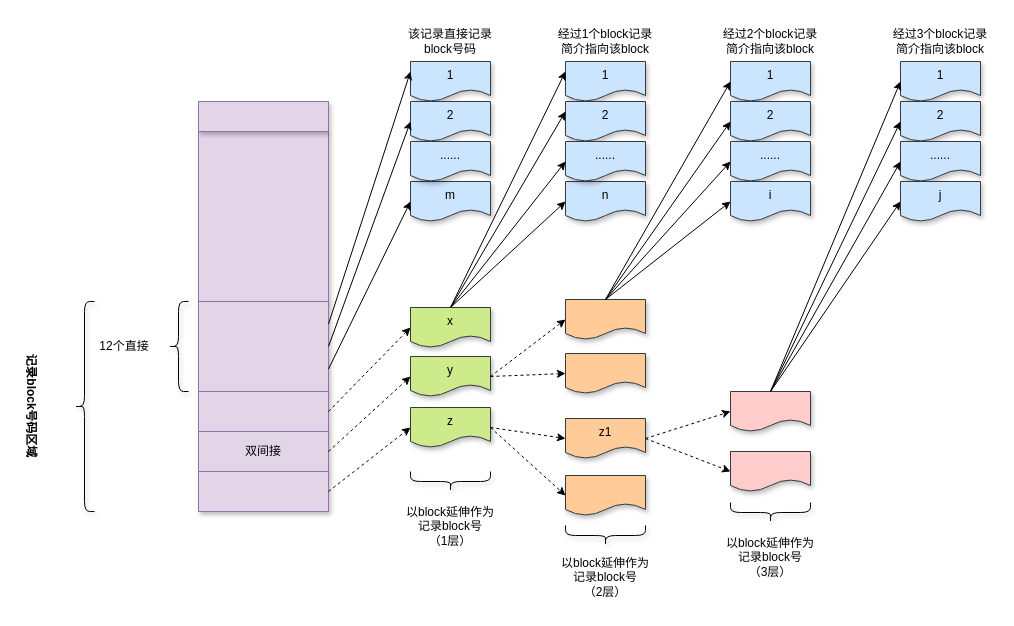
Image size: 1014x626. Some labels were removed from this diagram. Here are the shapes that lost their labels. From the top down, the centre of each, then its label:
the point at 264,117: INODE
the point at 264,217: 文件权限/属性记录区域
the point at 606,320: y1
the point at 264,347: 直接 ...... 直接
the point at 606,374: y2
the point at 264,412: 间接
the point at 771,412: z11
the point at 264,492: 三间接
the point at 771,472: z12
the point at 606,496: z2
